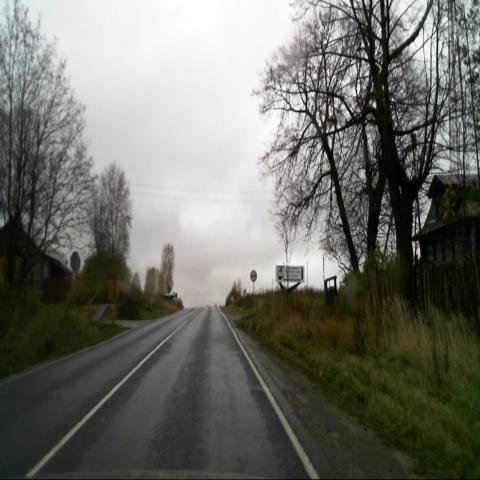3_20: (250, 269, 257, 283)
